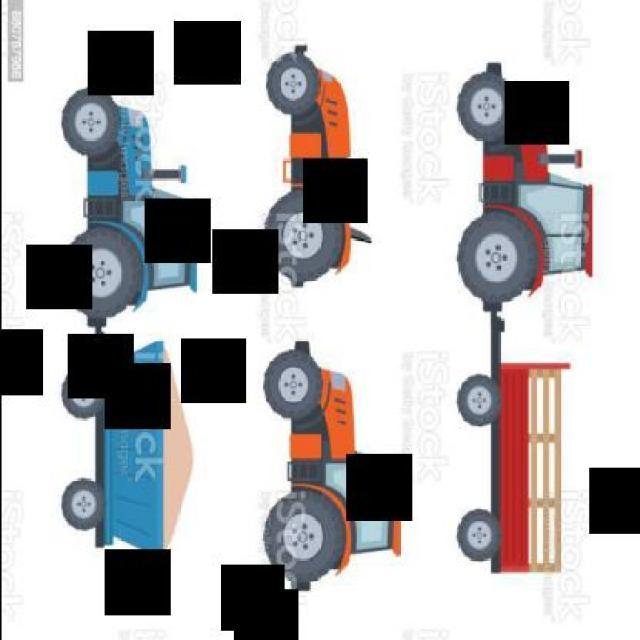Tratores - v5 YOLO V8L 2024-11-13: (35, 24, 222, 333), (411, 54, 614, 316), (228, 330, 400, 604), (237, 31, 386, 296)
